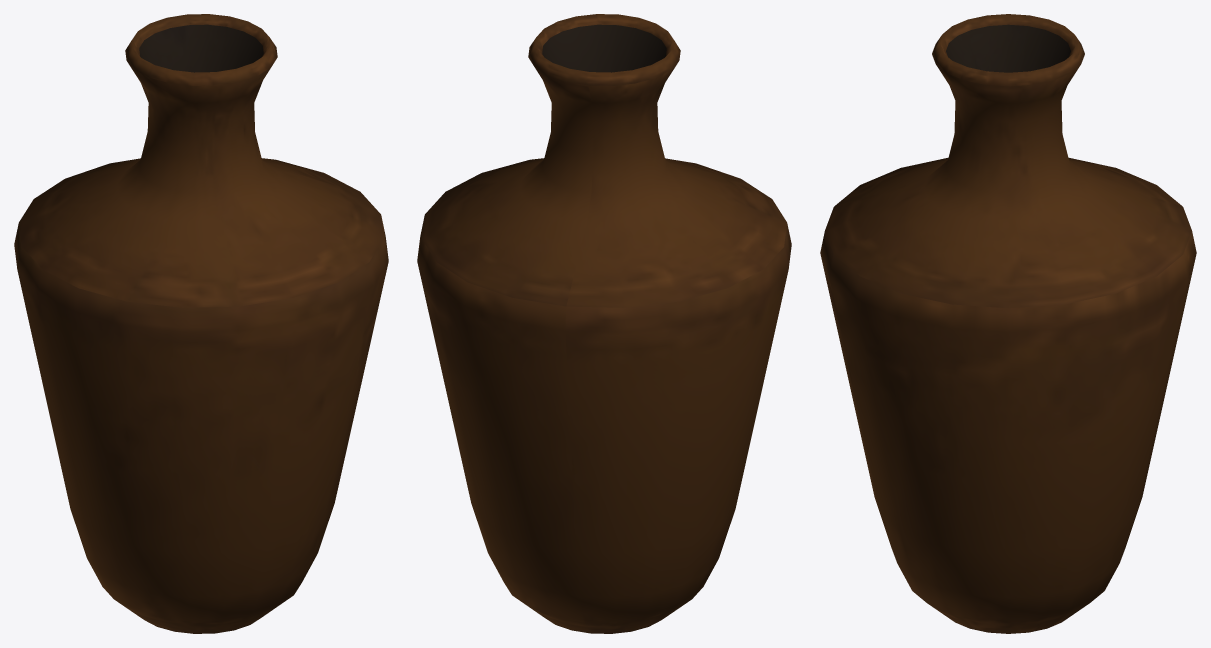
Rendered from Vase_3.gltf.
The picture shows the model from 3 angles, left to right: view 1: azimuth 30°, elevation 25°; view 2: azimuth 150°, elevation 25°; view 3: azimuth 270°, elevation 25°; orthographic projection.
Visible parts, largest first — view 1: Vase_3; view 2: Vase_3; view 3: Vase_3.
Boxes of the visible parts, x1,y1,x2,y2 form: Vase_3: (14, 14, 388, 633); Vase_3: (417, 14, 791, 633); Vase_3: (820, 14, 1196, 633).
Size of the model in its own units: 0.5554 by 0.9161 by 0.5554.
Materials: 1 (1 with a texture image).
